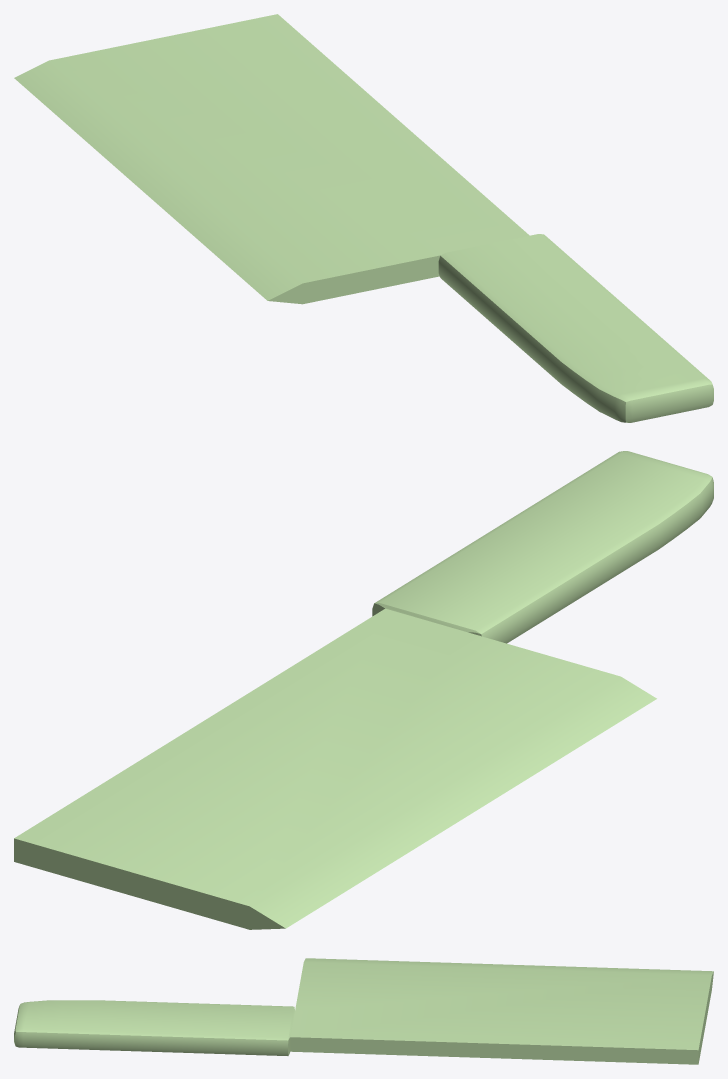
The model's file is caidao.fbx.
3 renders of one model, top to bottom at view 1: azimuth 30°, elevation 25°; view 2: azimuth 150°, elevation 25°; view 3: azimuth 270°, elevation 25°, orthographic. The views are drawn at different scales.
Parts seen in each view (by area): view 1: 菜刀; view 2: 菜刀; view 3: 菜刀.
Boxes of the visible parts, box(x1,y1,x2,y2) form: 菜刀: box(14, 14, 713, 422); 菜刀: box(14, 451, 713, 929); 菜刀: box(14, 958, 713, 1064).
Size of the model in its own units: 2.11 by 0.1794 by 6.28.
